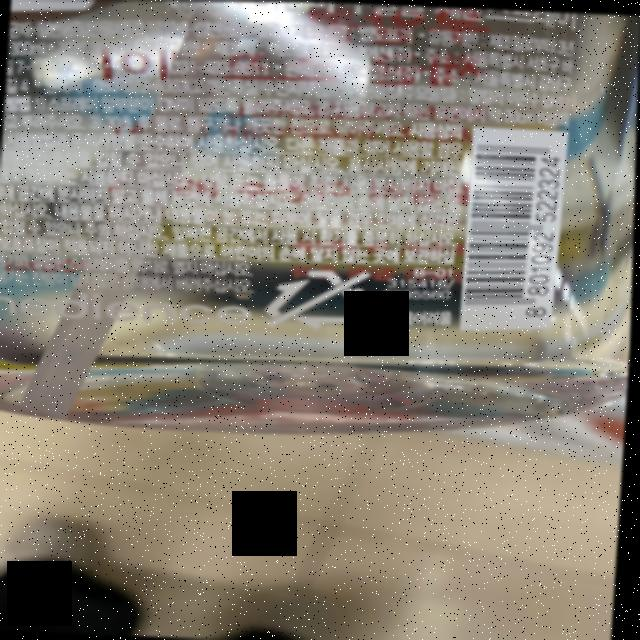NoRecycle: (263, 263, 379, 334)
